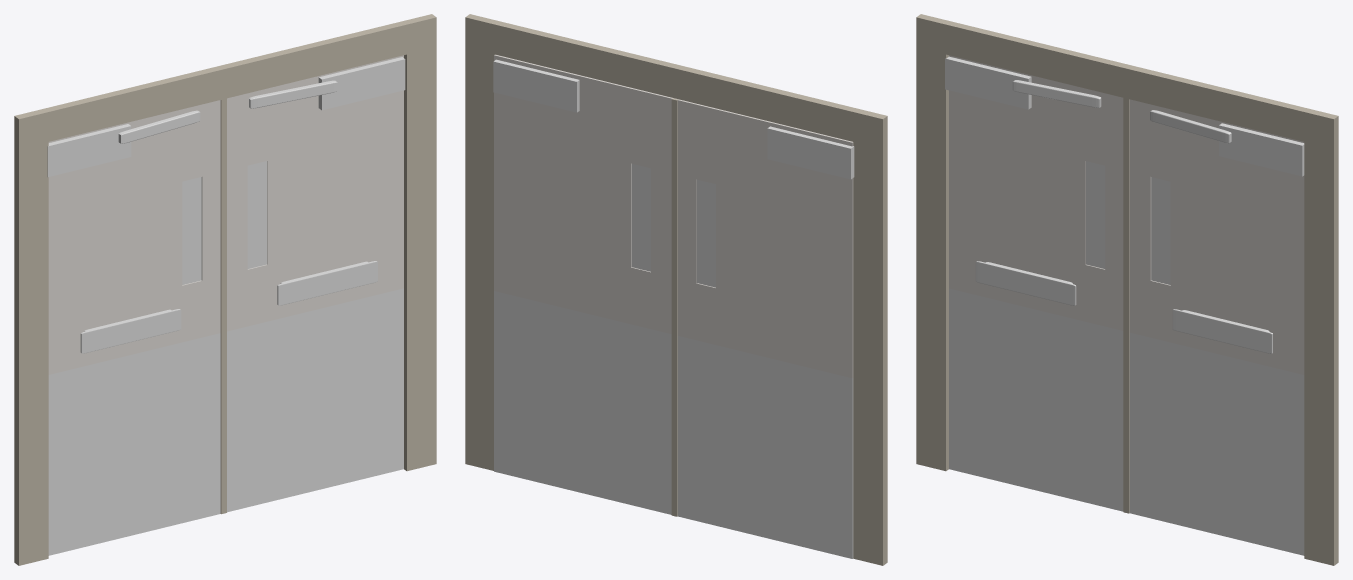
The model's file is exit-doors.fbx.
The picture shows the model from 3 angles, left to right: view 1: azimuth 30°, elevation 25°; view 2: azimuth 150°, elevation 25°; view 3: azimuth 330°, elevation 25°; orthographic projection.
Visible parts, largest first — view 1: Cube.001, Cube.007, Cube.005, Cube.011, Cube, Cube.009, Cube.004, Cube.012, Cube.003, Cube.008; view 2: Cube.001, Cube.007, Cube.005, Cube.011, Cube, Cube.003, Cube.008; view 3: Cube.001, Cube.007, Cube.005, Cube.011, Cube, Cube.009, Cube.004, Cube.012, Cube.008, Cube.003.
Part boxes in pixels (x1,y1,x2,y2): Cube.001: (227,55,403,512); Cube.007: (48,100,220,555); Cube.005: (14,14,436,565); Cube.011: (47,57,405,176); Cube: (220,98,226,514); Cube.009: (80,309,181,353); Cube.004: (277,261,377,305); Cube.012: (118,80,337,143); Cube.003: (247,161,266,268); Cube.008: (182,177,201,284); Cube.001: (494,54,673,514); Cube.007: (674,98,853,558); Cube.005: (465,14,887,565); Cube.011: (493,59,854,179); Cube: (671,98,677,516); Cube.003: (631,163,650,271); Cube.008: (696,179,715,287); Cube.001: (1129,99,1304,555); Cube.007: (949,55,1123,511); Cube.005: (916,14,1338,565); Cube.011: (945,56,1304,176); Cube: (1123,98,1129,513); Cube.009: (975,261,1076,305); Cube.004: (1172,309,1272,353); Cube.012: (1012,80,1231,143); Cube.008: (1086,161,1105,268); Cube.003: (1151,177,1170,284).
Size of the model in its own units: 210 by 215 by 9.5.
